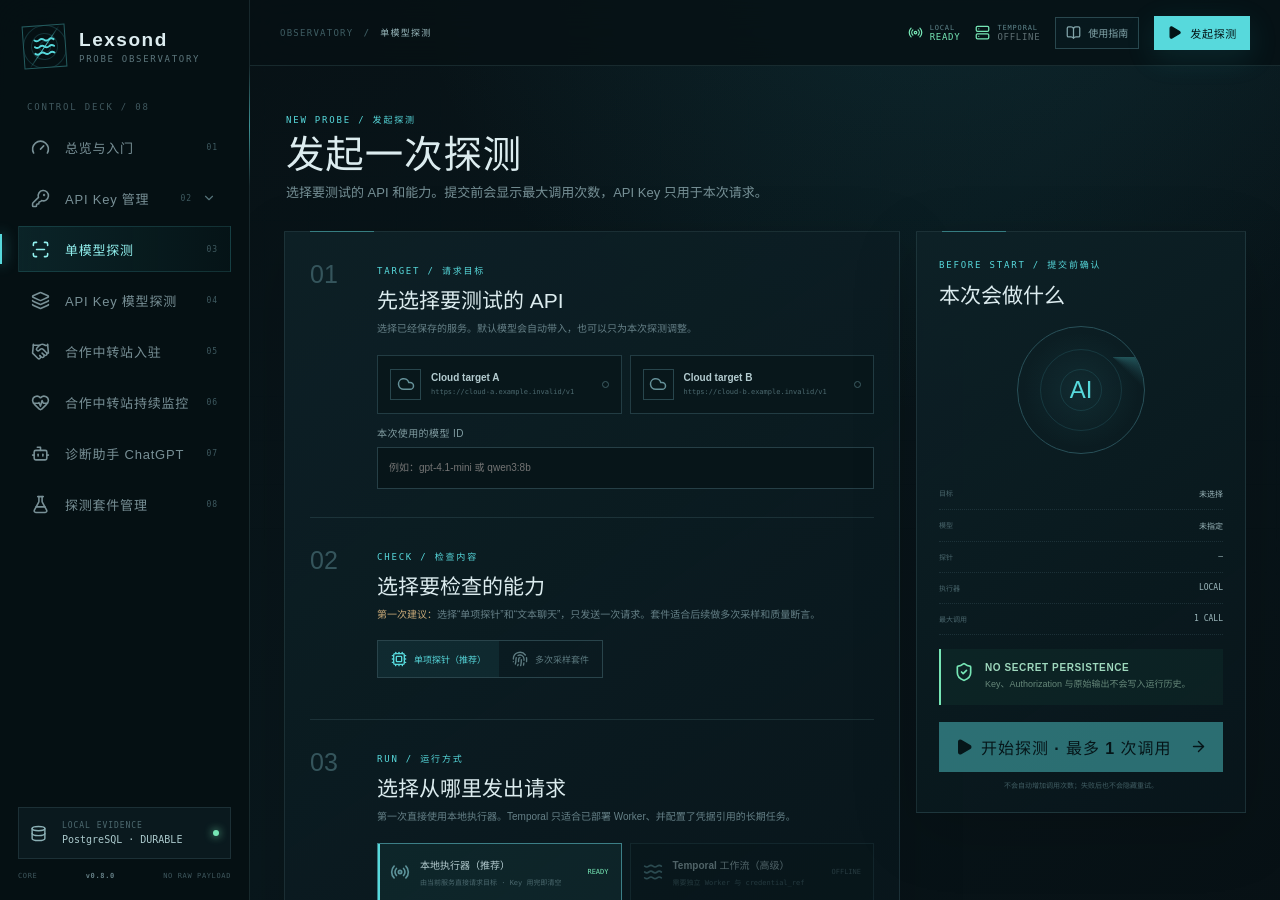
Test case: observatory console › clears a temporary run key when the selected target changes
The width and height of the screenshot is (1280, 900).
Click the radio button labelled "Cloud target A https://cloud-a.example.invalid/v1".
click(499, 384)  # box [377, 355, 622, 414]
(page scrolled)
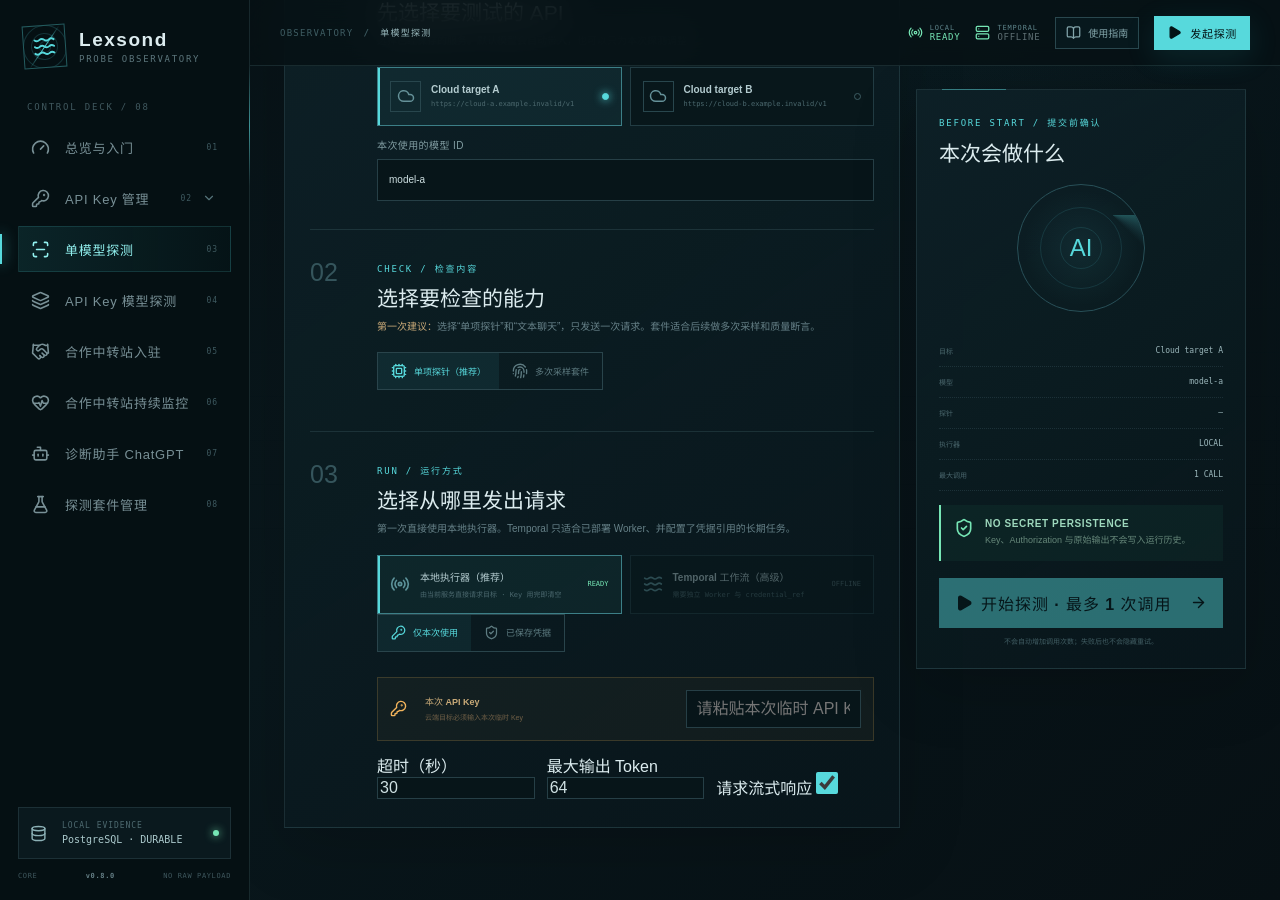
Type "test-target-a-only-key" into the password field labelled "本次 API Key 云端目标必须输入本次临时 Key".
click(773, 709); type("test-target-a-only-key")  # box [686, 690, 861, 728]
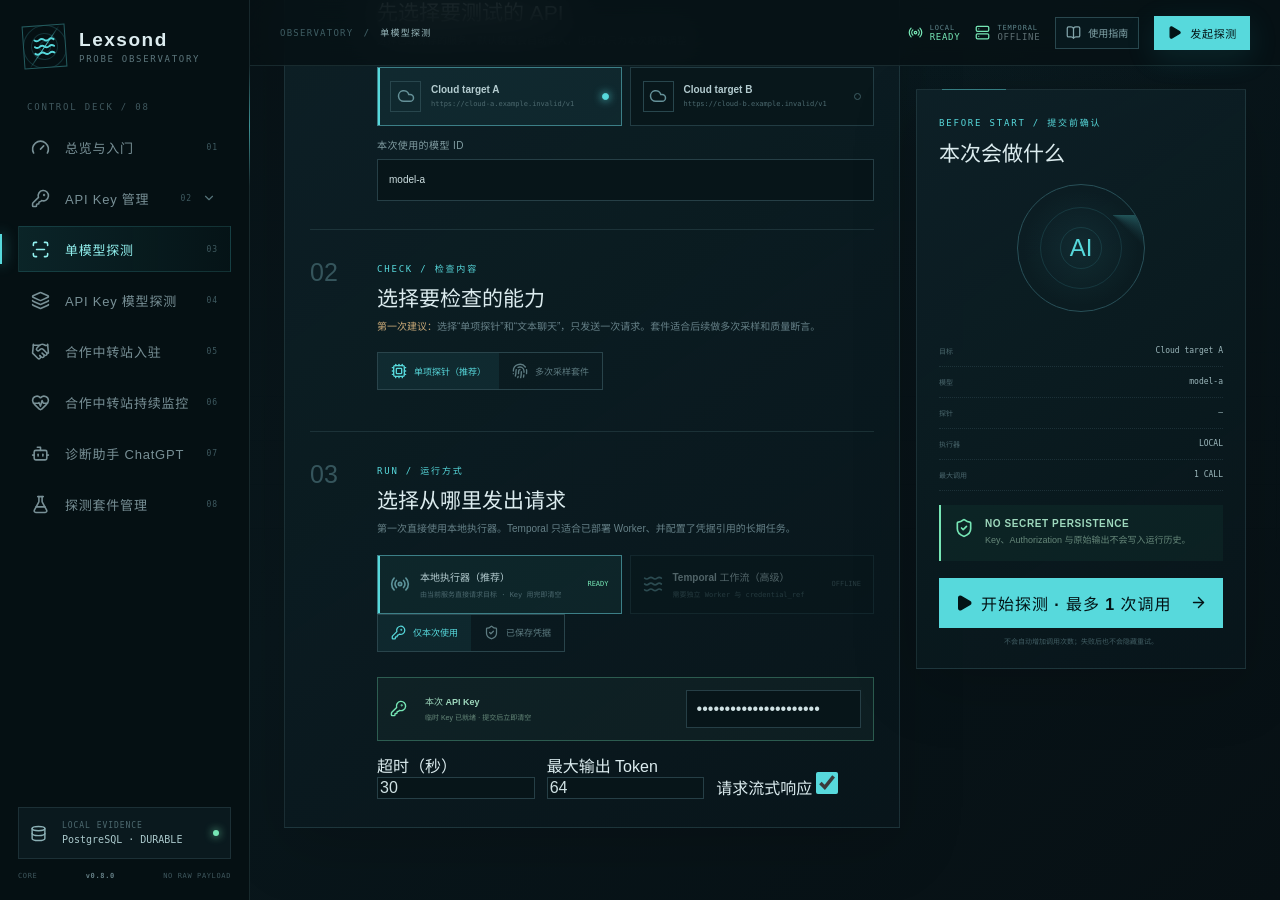
Expected: the button "开始探测 · 最多 1 次调用" is enabled, [939, 578, 1223, 628]
Click the radio button labelled "Cloud target B https://cloud-b.example.invalid/v1".
click(752, 96)  # box [630, 67, 874, 126]
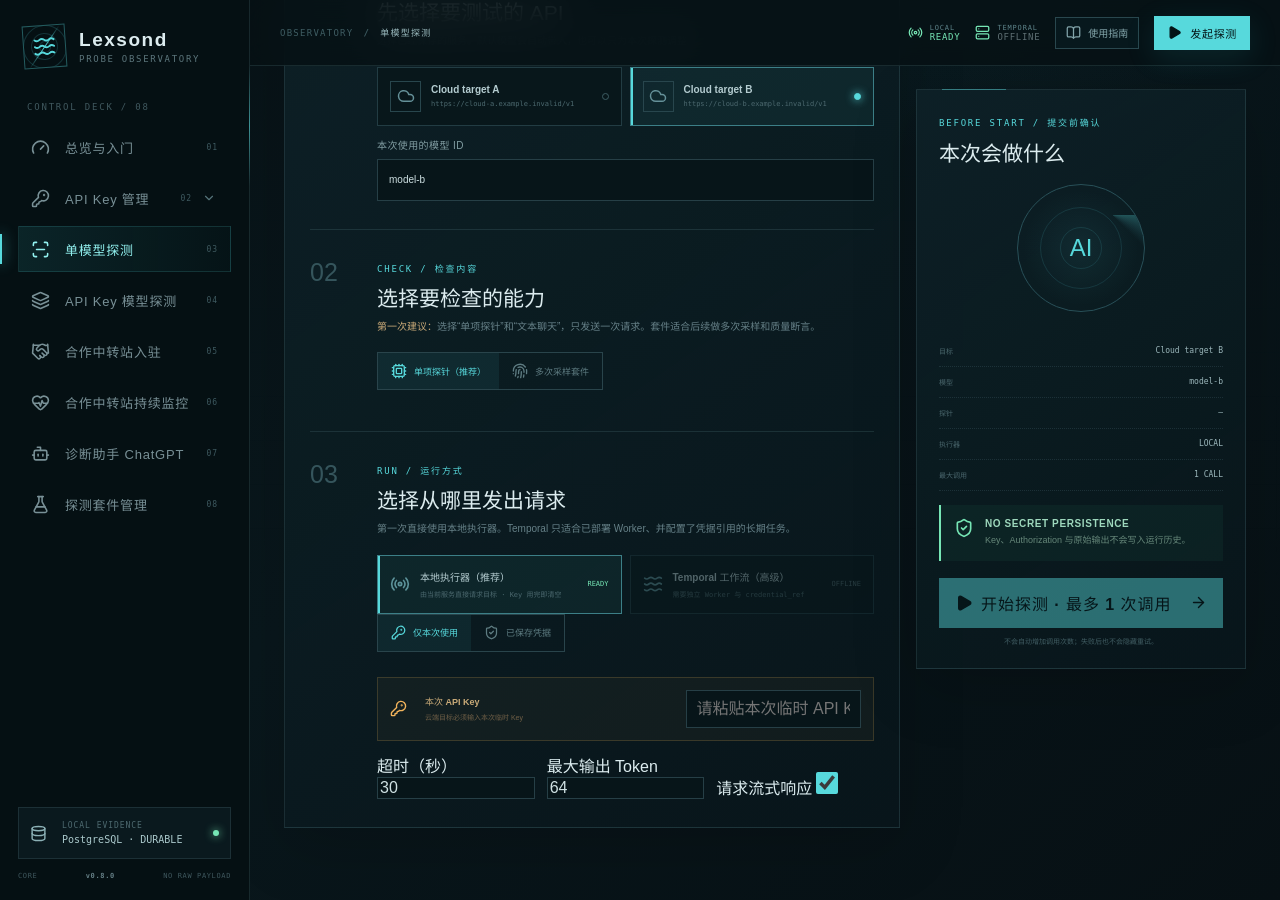
Expected: the password field labelled "本次 API Key 云端目标必须输入本次临时 Key" is empty, [686, 690, 861, 728]
Expected: the button "开始探测 · 最多 1 次调用" is disabled, [939, 578, 1223, 628]
